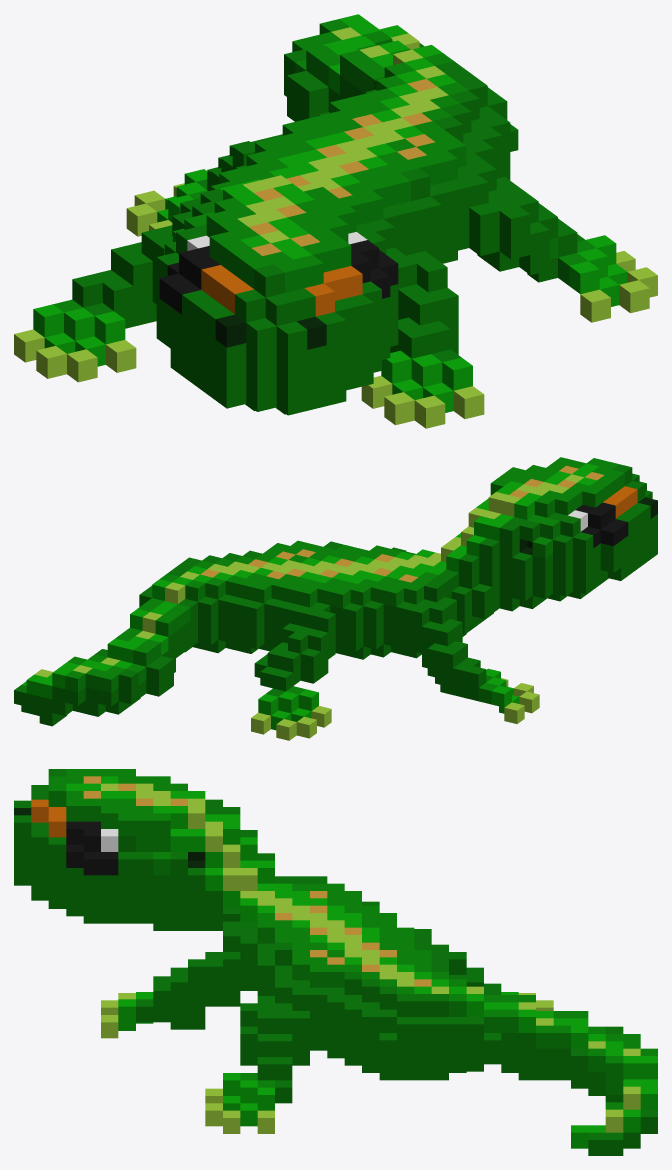
The model's file is lizard.obj.
3 views of the same model, one above another, from view 1: azimuth 30°, elevation 25°; view 2: azimuth 150°, elevation 25°; view 3: azimuth 270°, elevation 25° (orthographic). The views are drawn at different scales.
Visible parts, largest first — view 1: lizard; view 2: lizard; view 3: lizard.
Boxes of the visible parts, bbox=[...] form: lizard: bbox=[14, 14, 657, 428]; lizard: bbox=[14, 457, 657, 740]; lizard: bbox=[14, 769, 657, 1155].
Size of the model in its own units: 3.1 by 1.1 by 3.7.
